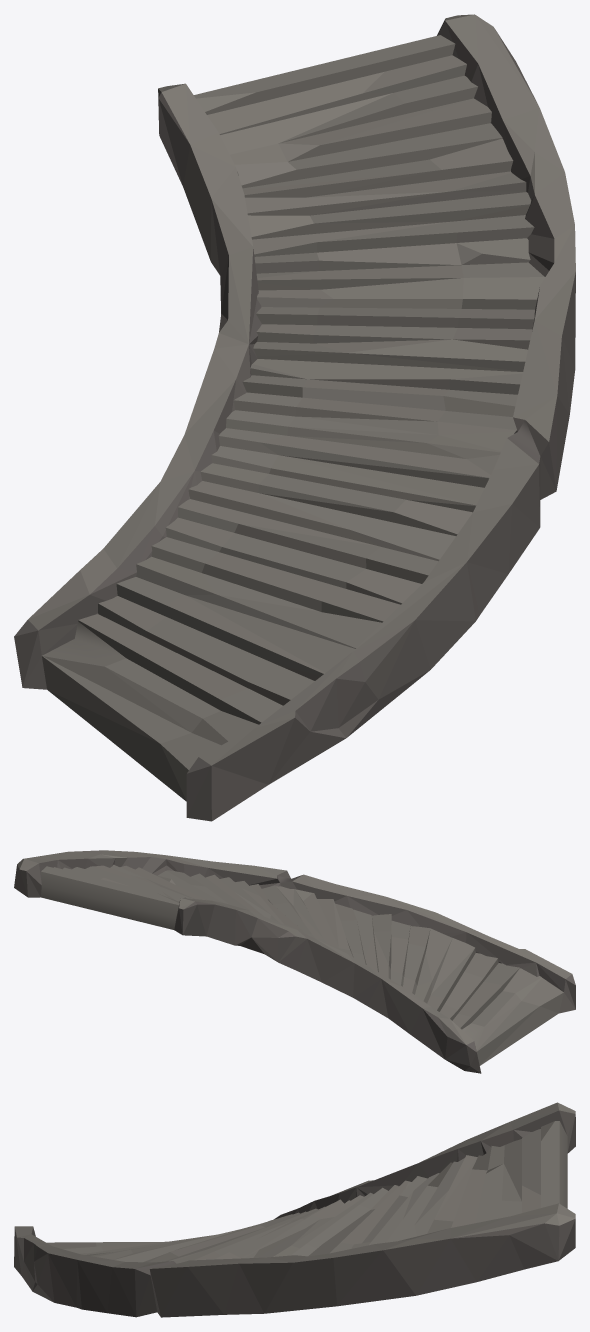
The model's file is SM_Env_SpiralStairs_01.FBX.
3 renders of one model, top to bottom at view 1: azimuth 30°, elevation 25°; view 2: azimuth 150°, elevation 25°; view 3: azimuth 270°, elevation 25°, orthographic. The views are drawn at different scales.
Parts seen in each view (by area): view 1: SM_Env_SpiralStairs_01; view 2: SM_Env_SpiralStairs_01; view 3: SM_Env_SpiralStairs_01.
Boxes of the visible parts, bbox=[...] form: SM_Env_SpiralStairs_01: bbox=[14, 14, 575, 821]; SM_Env_SpiralStairs_01: bbox=[14, 850, 575, 1073]; SM_Env_SpiralStairs_01: bbox=[14, 1102, 575, 1317].
Size of what is drawn, in the model's own units: 1044 by 1039 by 572.
